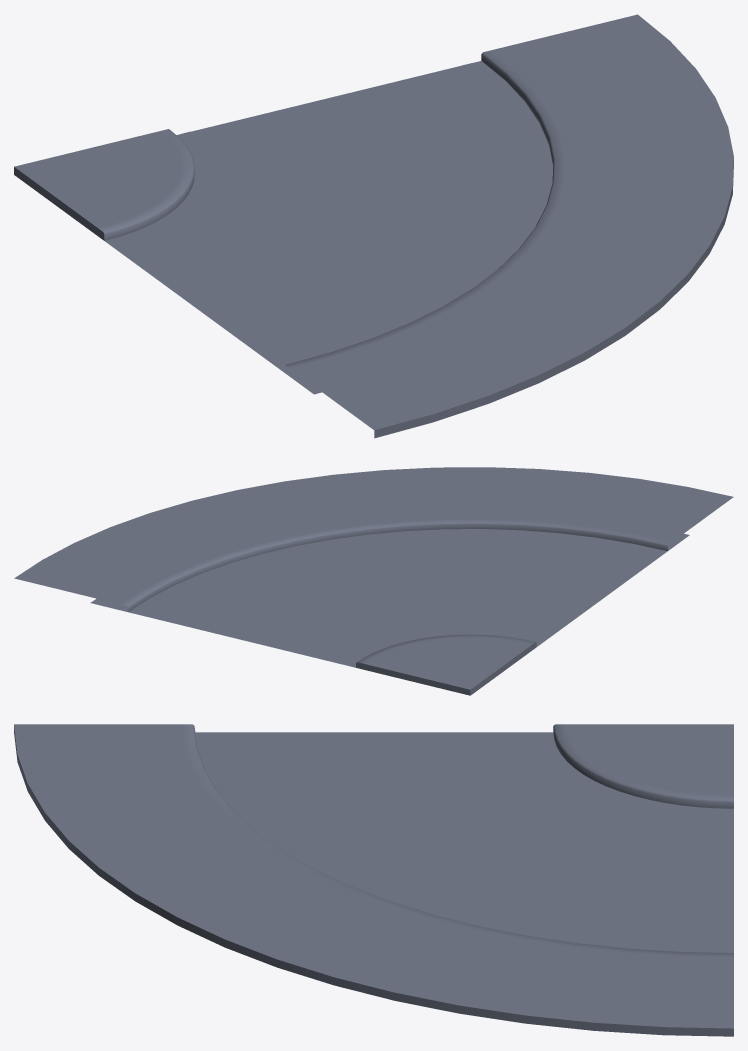
File: env_block_street_curve_2_lane.glb
3 views of the same model, one above another, from view 1: azimuth 30°, elevation 25°; view 2: azimuth 150°, elevation 25°; view 3: azimuth 270°, elevation 25° (orthographic). The views are drawn at different scales.
Parts seen in each view (by area): view 1: Street_Curve_2Lane.gltf; view 2: Street_Curve_2Lane.gltf; view 3: Street_Curve_2Lane.gltf.
Part boxes in pixels (left/top/right/bottom): Street_Curve_2Lane.gltf: left=14, top=14, right=733, bottom=438; Street_Curve_2Lane.gltf: left=14, top=467, right=733, bottom=695; Street_Curve_2Lane.gltf: left=14, top=724, right=733, bottom=1036.
Size of the model in its own units: 12 by 0.15 by 12.
